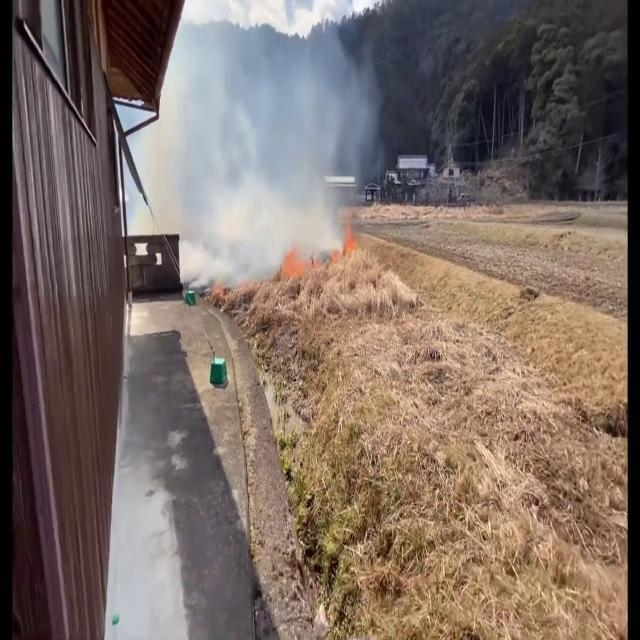Smoke: (156, 0, 377, 305)
